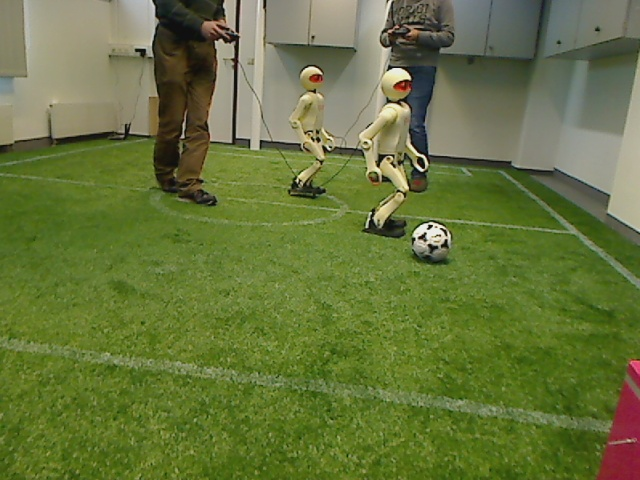ball: (408, 220, 455, 264)
robot: (359, 68, 418, 236), (284, 65, 336, 204)
